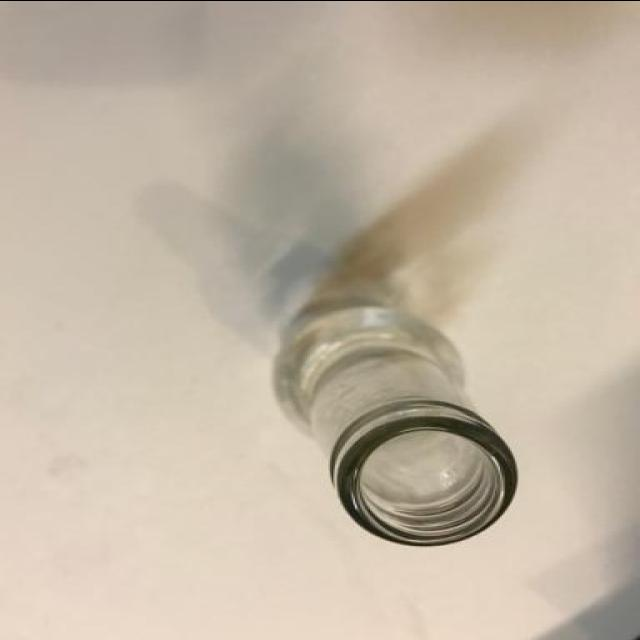Glass Bottle: (273, 298, 527, 548)
